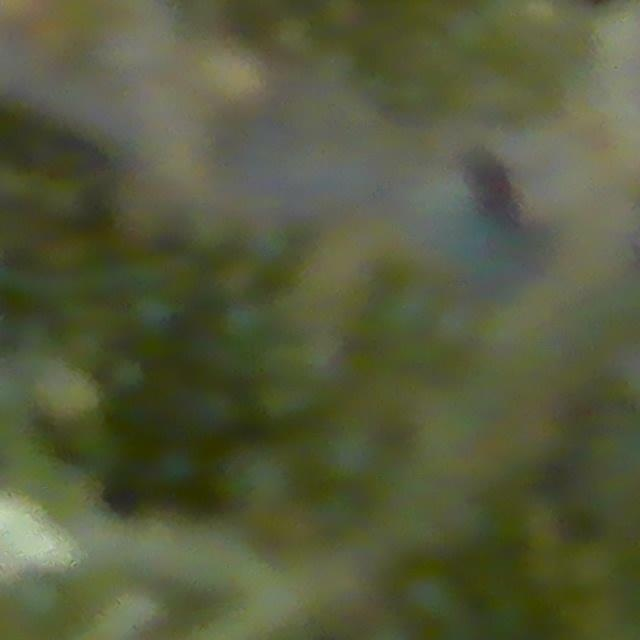SeaGrape: (222, 438, 304, 520), (311, 417, 388, 490), (4, 568, 70, 633), (400, 567, 464, 626)
